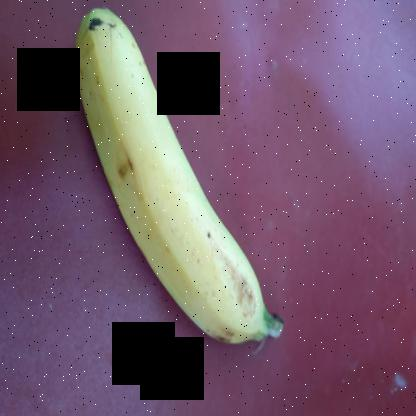freshripe: (74, 5, 260, 348)
